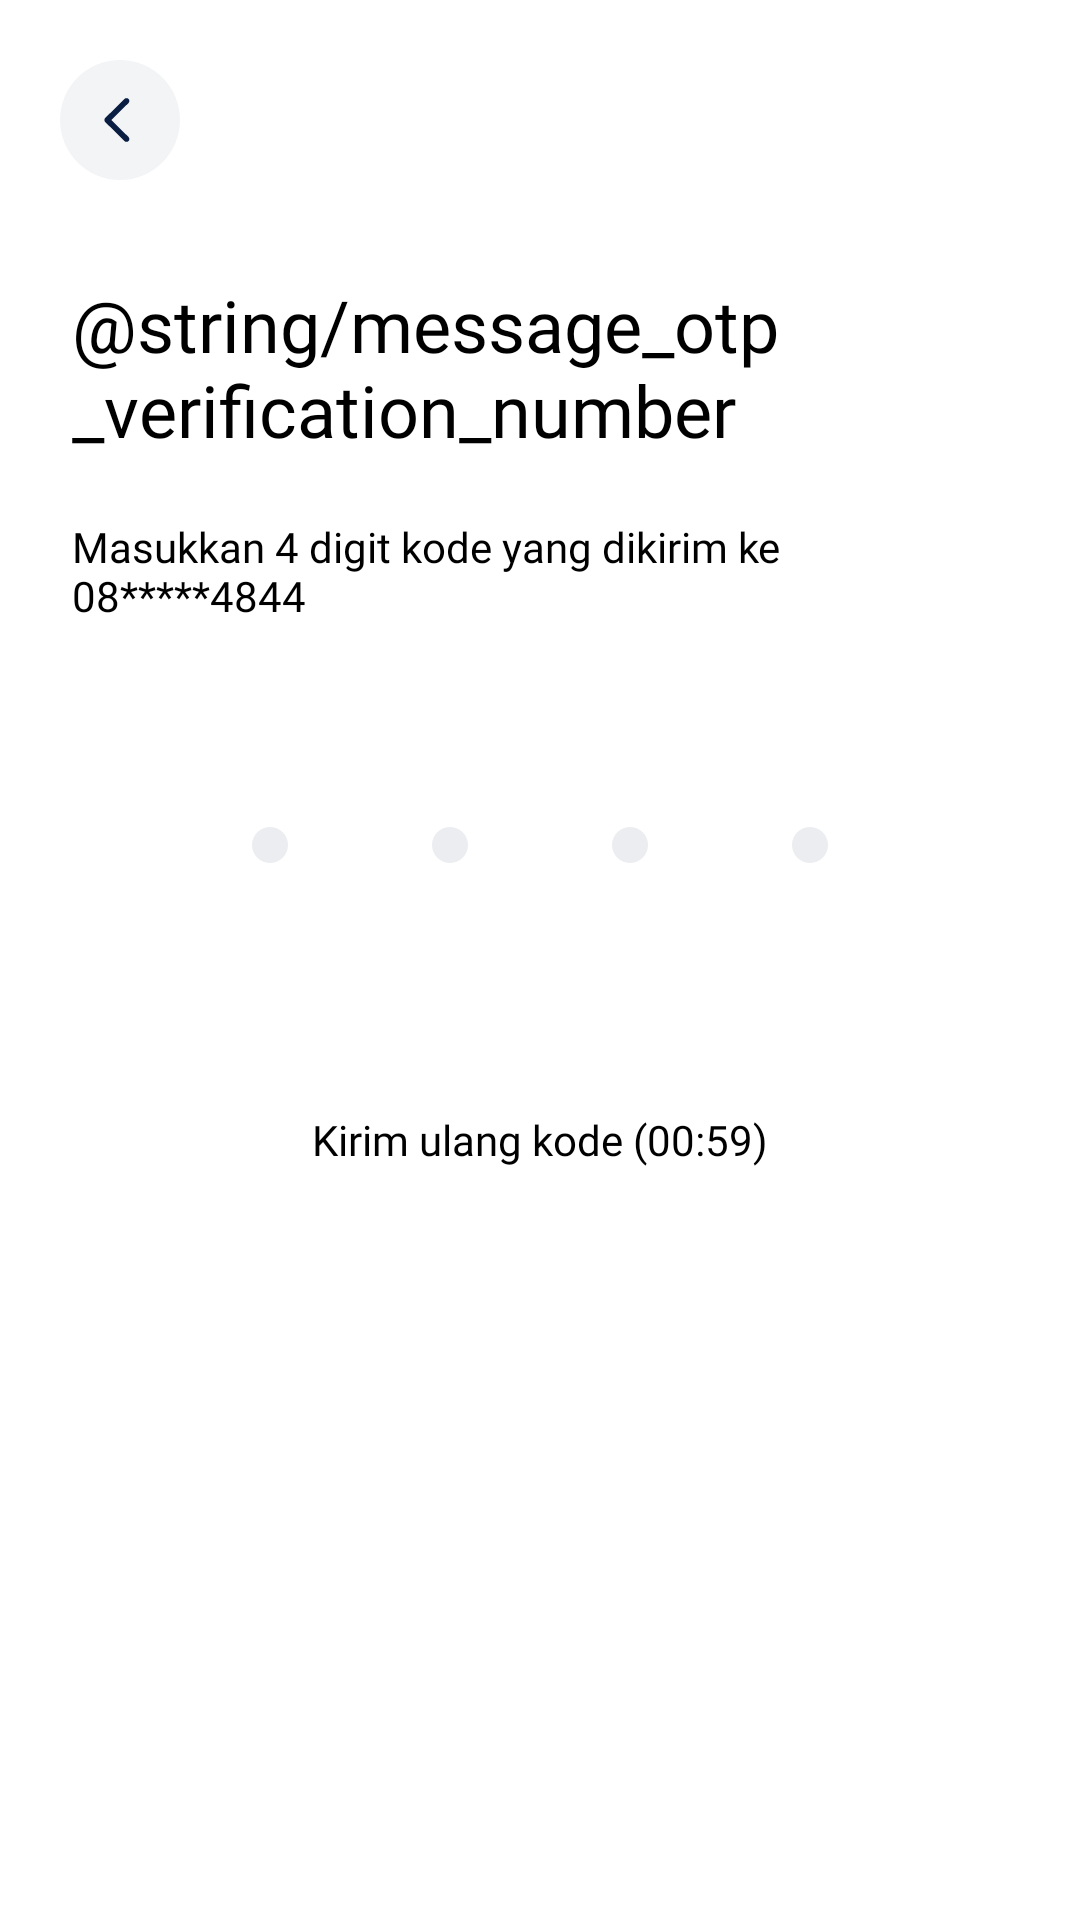

Icons on this 1080w x 1920h Android screen, each with its box as [x1=x1, y1=y1, x2=x2, y2=y2]:
back circle: [x1=60, y1=60, x2=180, y2=180]
